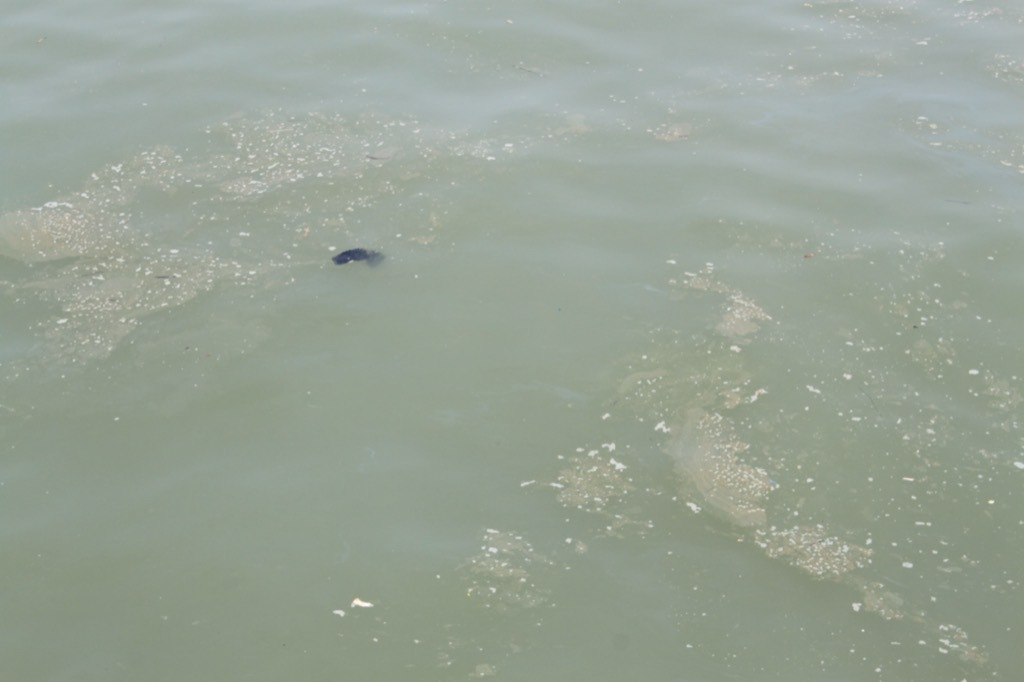plastic: (326, 238, 396, 277), (345, 589, 379, 617), (327, 603, 355, 628)
